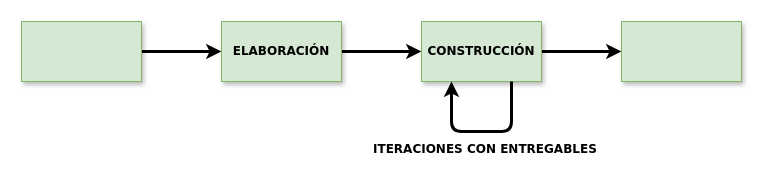
Some shapes in this 765 by 177 pixel diagram are drawn without their labels. The shapes that lost their labels are listed below. From the top down, each one's centre as x and y in pixels, then its label:
At point 82,52: "CONCEPCIÓN".
At point 682,52: "TRANSICIÓN".
